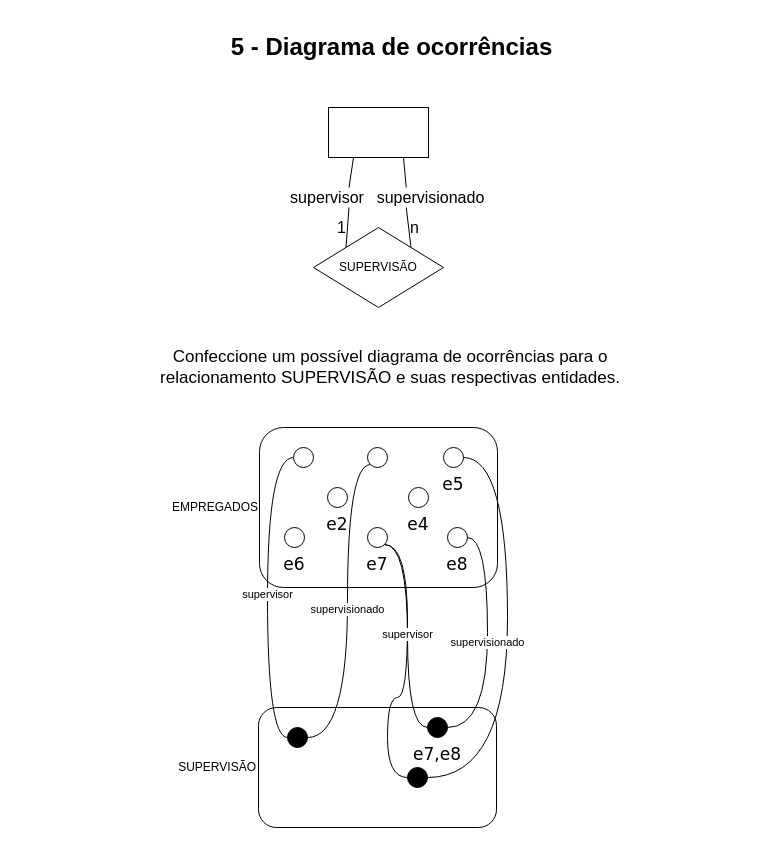
The diagram is 783 pixels wide and 845 high, and some of its shapes have lost their labels. The centre of each missing label's shape, as x and y in pixels:
"e1" goes at point (303, 457).
"e1,e3" goes at point (297, 737).
"e3" goes at point (377, 457).
"e7,e5" goes at point (417, 777).
"EMPREGADO" goes at point (378, 132).
